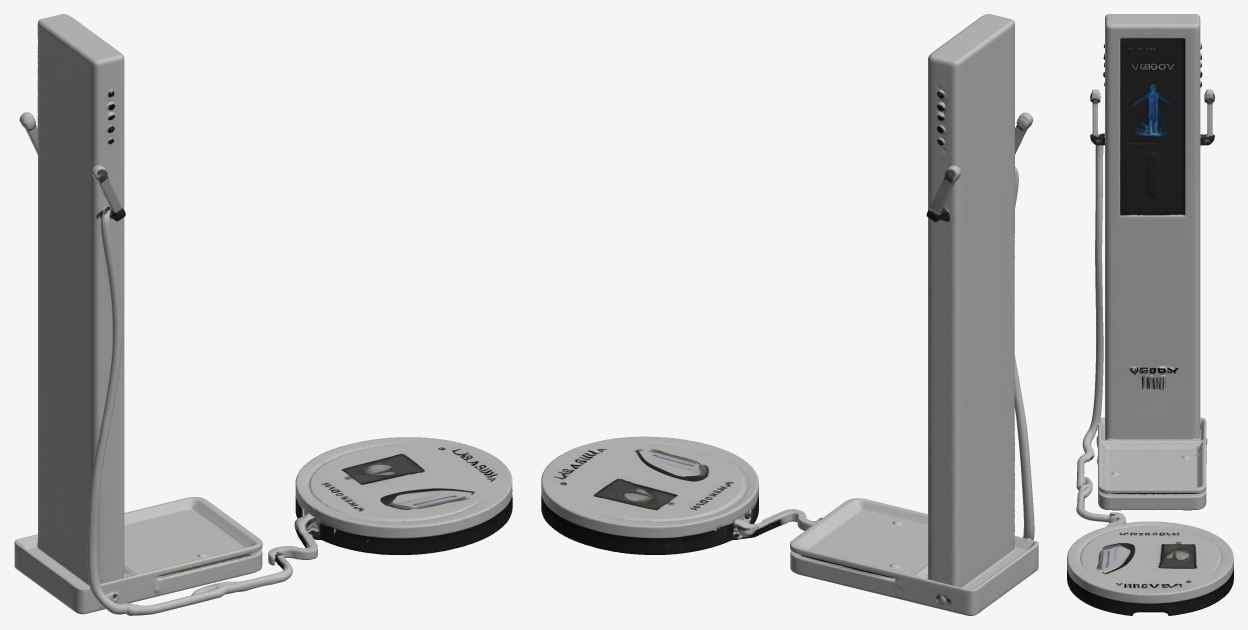
The model's file is body scanner 3d model.glb.
3 renders of one model, left to right at view 1: azimuth 30°, elevation 25°; view 2: azimuth 150°, elevation 25°; view 3: azimuth 270°, elevation 25°, orthographic. The views are drawn at different scales.
Parts seen in each view (by area): view 1: tripo_node_53d91ecf-082f-4195-a60b-7276e0dd5415; view 2: tripo_node_53d91ecf-082f-4195-a60b-7276e0dd5415; view 3: tripo_node_53d91ecf-082f-4195-a60b-7276e0dd5415.
Part boxes in pixels (x1,y1,x2,y2): tripo_node_53d91ecf-082f-4195-a60b-7276e0dd5415: (14,14,512,615); tripo_node_53d91ecf-082f-4195-a60b-7276e0dd5415: (541,14,1038,615); tripo_node_53d91ecf-082f-4195-a60b-7276e0dd5415: (1067,14,1233,615).
Bounding box in the file's own units: 0.8576 × 1 × 0.3449.
1 material, 1 textured.
